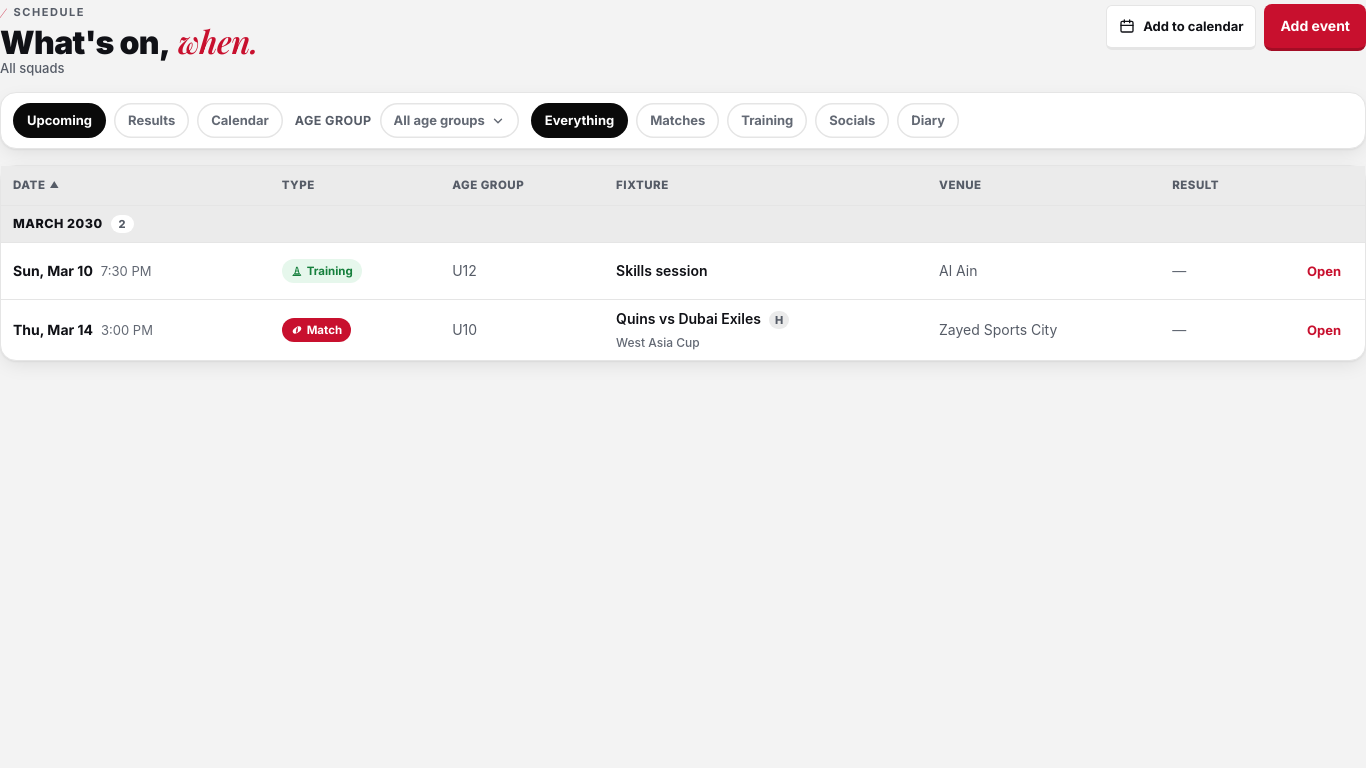
Test case: ScheduleTable — opening a row › opens the event when the row itself is clicked, not only the Open button
expect the table with test id "schedule-table" is shown: met, box [1,166,1365,360]
Click the row with test id "schedule-table-row" that starts with "Sun, Mar 10".
click(683, 271)  # box [1,242,1365,300]
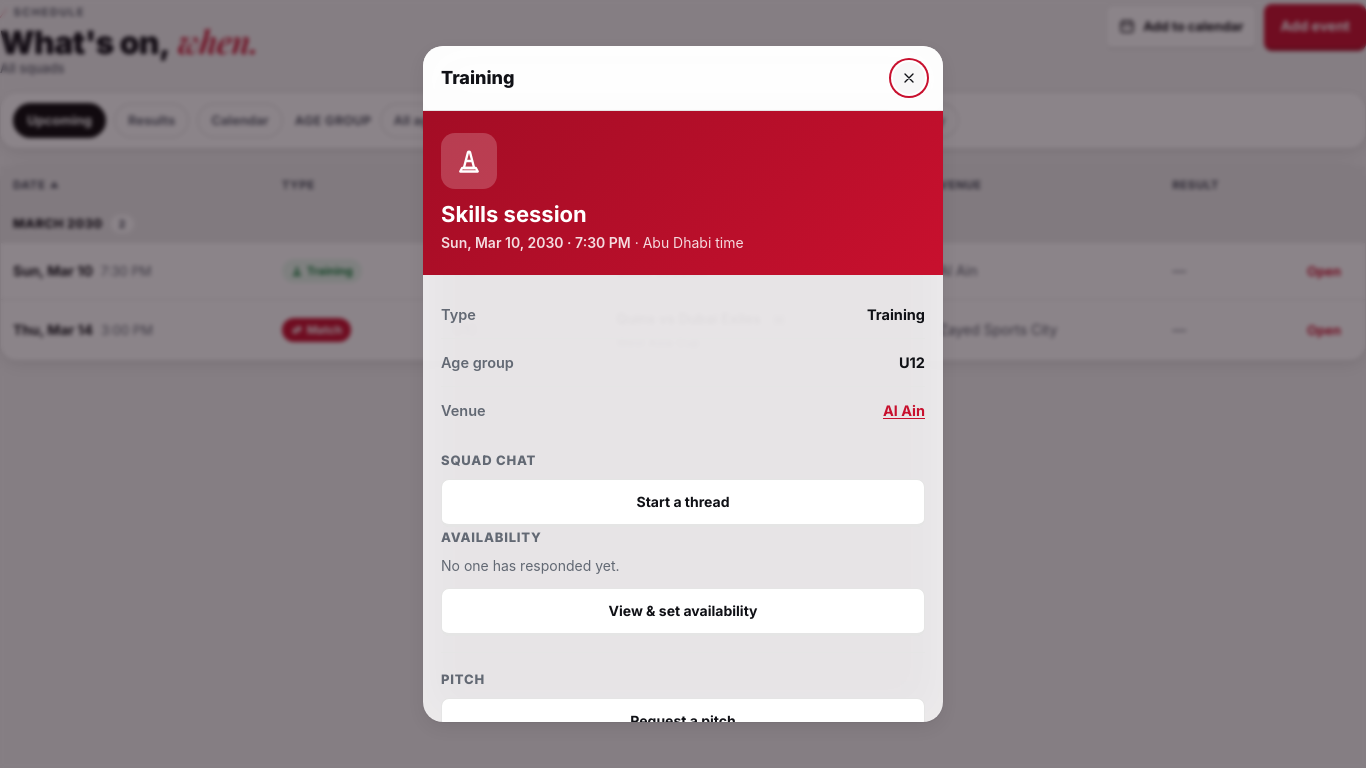
expect the dialog shows "Skills session": met, box [441,201,587,227]
